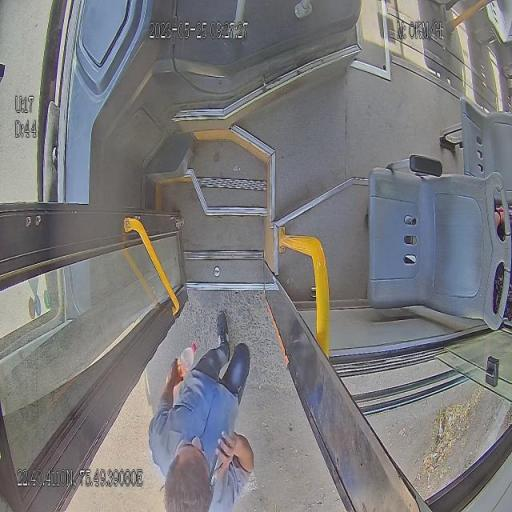persona: (148, 309, 254, 511)
